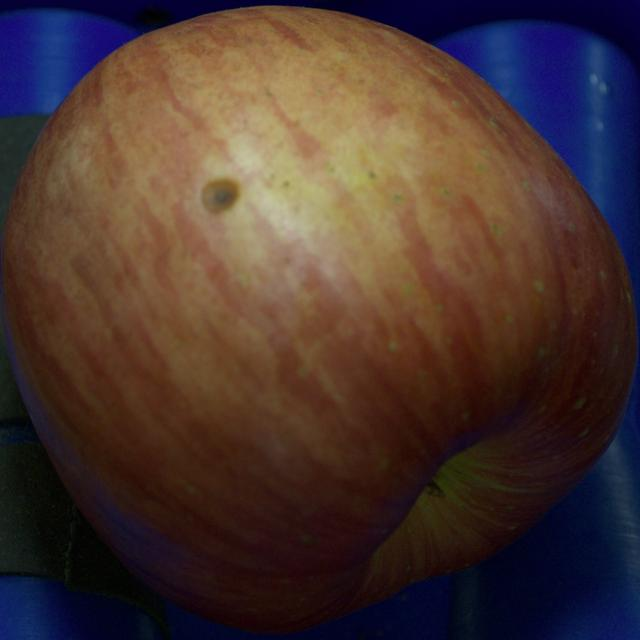apple: (0, 7, 636, 632)
rotten: (201, 178, 239, 212)
